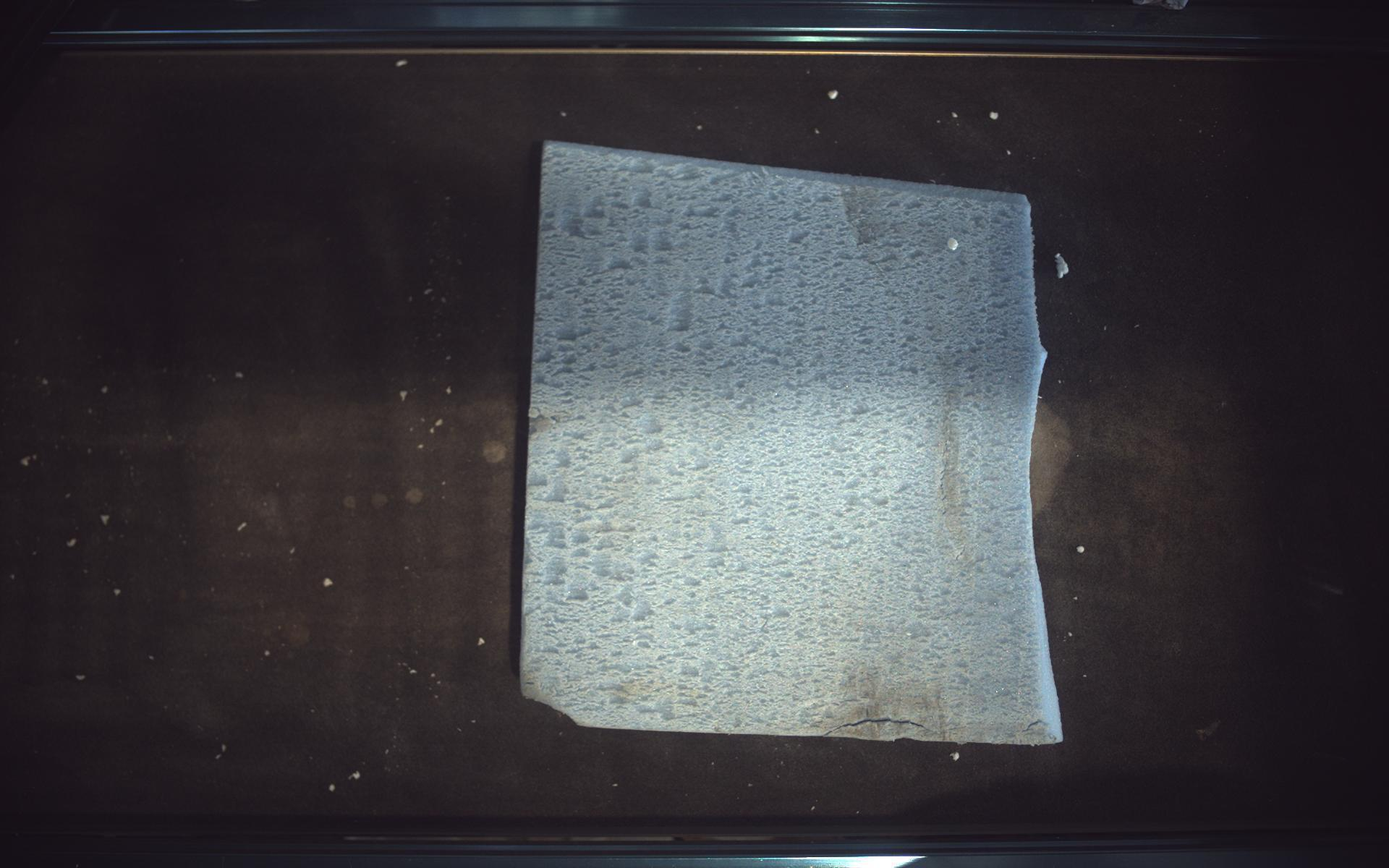foam: (520, 140, 1064, 746)
